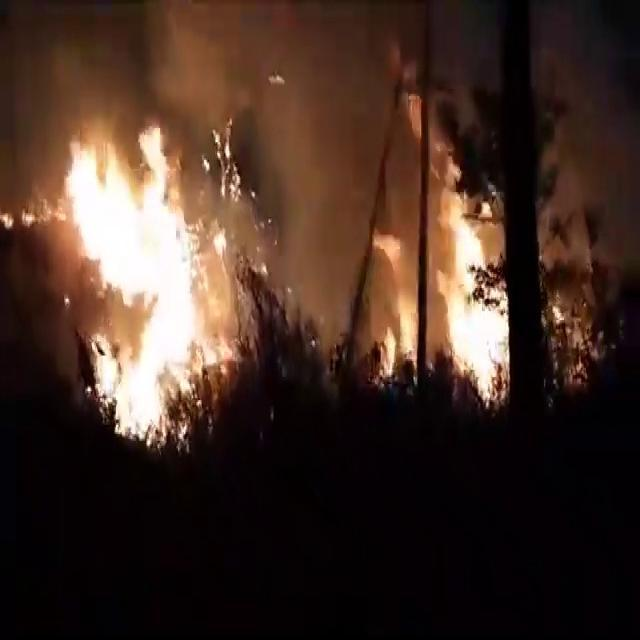Fire: (89, 296, 231, 449), (443, 172, 505, 402), (548, 293, 595, 379), (377, 292, 415, 381), (96, 329, 122, 401), (172, 394, 196, 448)
Smoke: (268, 58, 357, 374), (537, 7, 635, 258)
